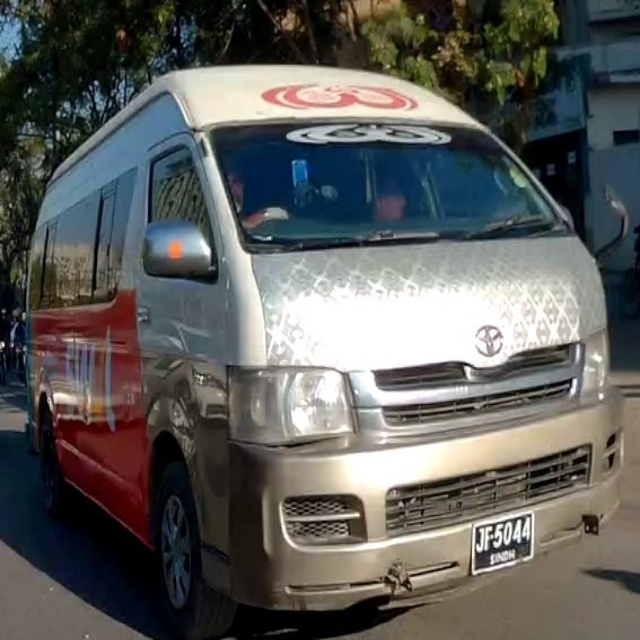Van: (23, 63, 625, 640)
